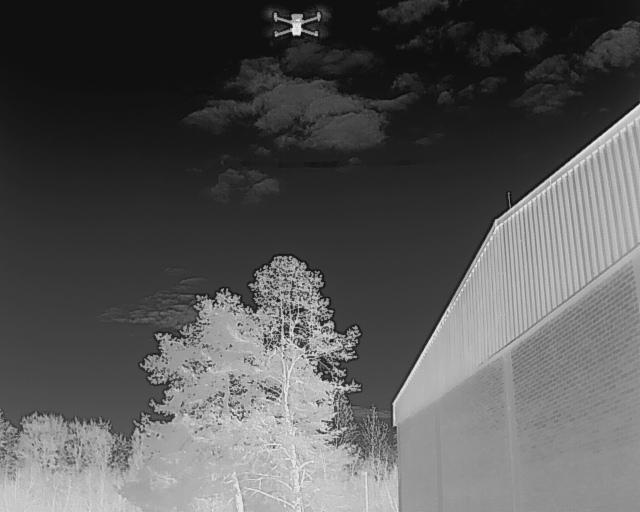drone: (264, 8, 324, 54)
